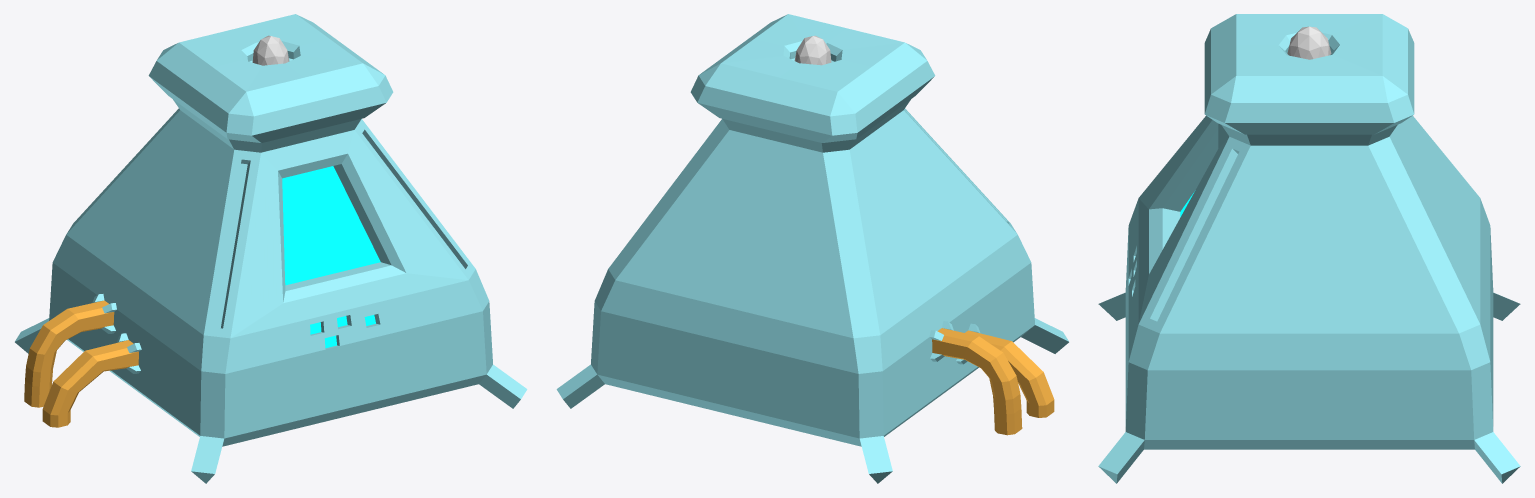
File: BASE HOLOGRAM.fbx
3 views of the same model, side by side, from view 1: azimuth 30°, elevation 25°; view 2: azimuth 150°, elevation 25°; view 3: azimuth 270°, elevation 25° (orthographic). The views are drawn at different scales.
Parts seen in each view (by area): view 1: Cube, Cube.002, Cube.003, Icosphere; view 2: Cube, Cube.003, Icosphere; view 3: Cube, Icosphere.
Part boxes in pixels (left/top/right/bottom): Cube: left=15, top=14, right=527, bottom=483; Cube.002: left=282, top=166, right=380, bottom=285; Cube.003: left=24, top=300, right=138, bottom=427; Icosphere: left=252, top=35, right=289, bottom=65; Cube: left=556, top=14, right=1068, bottom=483; Cube.003: left=932, top=328, right=1054, bottom=435; Icosphere: left=794, top=35, right=831, bottom=65; Cube: left=1098, top=14, right=1520, bottom=483; Icosphere: left=1287, top=26, right=1331, bottom=59.
Size of the model in its own units: 272 by 225 by 229.
